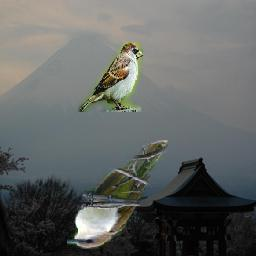Cuckoo: (68, 141, 169, 250)
Sparrow: (79, 42, 144, 112)
